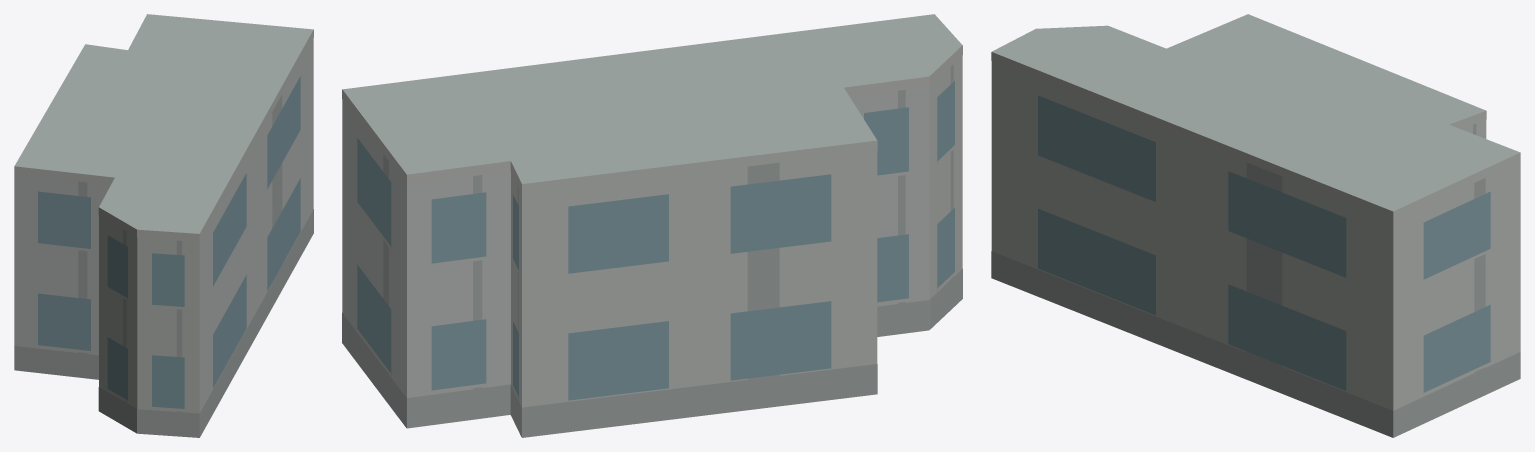
Rendered from survey-upis-32775109.glb.
3 views of the same model, side by side, from view 1: azimuth 30°, elevation 25°; view 2: azimuth 150°, elevation 25°; view 3: azimuth 270°, elevation 25° (orthographic). The views are drawn at different scales.
Visible parts, largest first — view 1: survey-upis-32775109.tmp; view 2: survey-upis-32775109.tmp; view 3: survey-upis-32775109.tmp.
Part boxes in pixels (box(x1,y1,x2,y2)): survey-upis-32775109.tmp: box(14, 14, 313, 437); survey-upis-32775109.tmp: box(342, 14, 962, 437); survey-upis-32775109.tmp: box(991, 14, 1520, 437).
Size of the model in its own units: 11.42 by 6.1 by 12.93.
